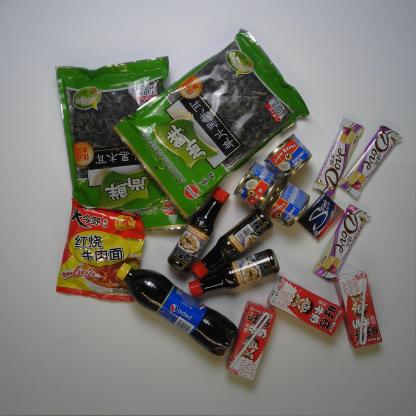Canned Food: (262, 130, 315, 182), (263, 178, 312, 229), (233, 159, 280, 211)
Chocolate: (334, 122, 404, 201), (310, 202, 374, 283), (310, 115, 366, 199)
Dried Food: (110, 26, 313, 222), (49, 54, 190, 234)
Drink: (112, 260, 239, 359)
Gum: (295, 190, 346, 242)
Instant Noodles: (52, 194, 147, 308)
Milk: (265, 273, 347, 343), (224, 300, 278, 385), (331, 268, 384, 353)
Seasoner: (190, 206, 276, 280), (165, 186, 231, 276), (186, 246, 282, 300)
